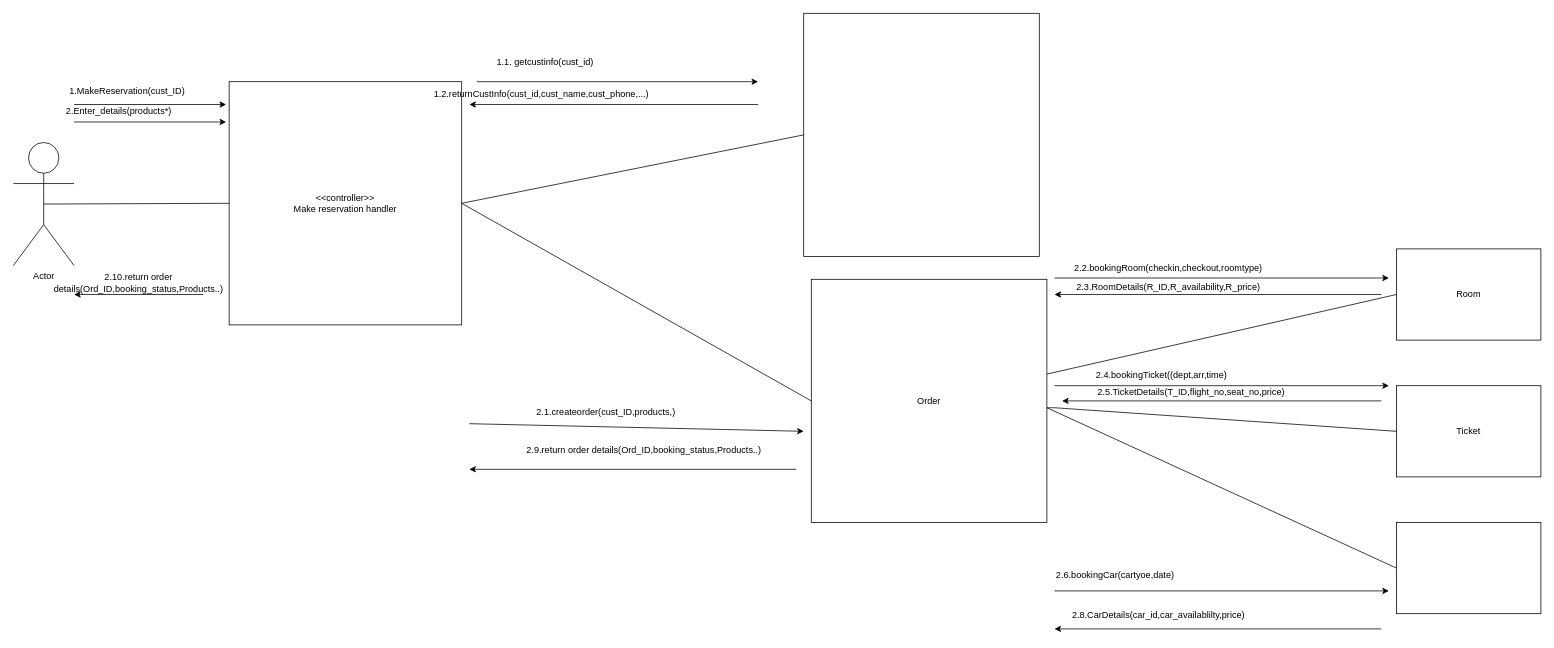
This 1554x648 diagram has some shape labels left out. Each missing label, with the centre of its shape:
"car" goes at pixel 1468 568.
"user profile" goes at pixel 921 134.
